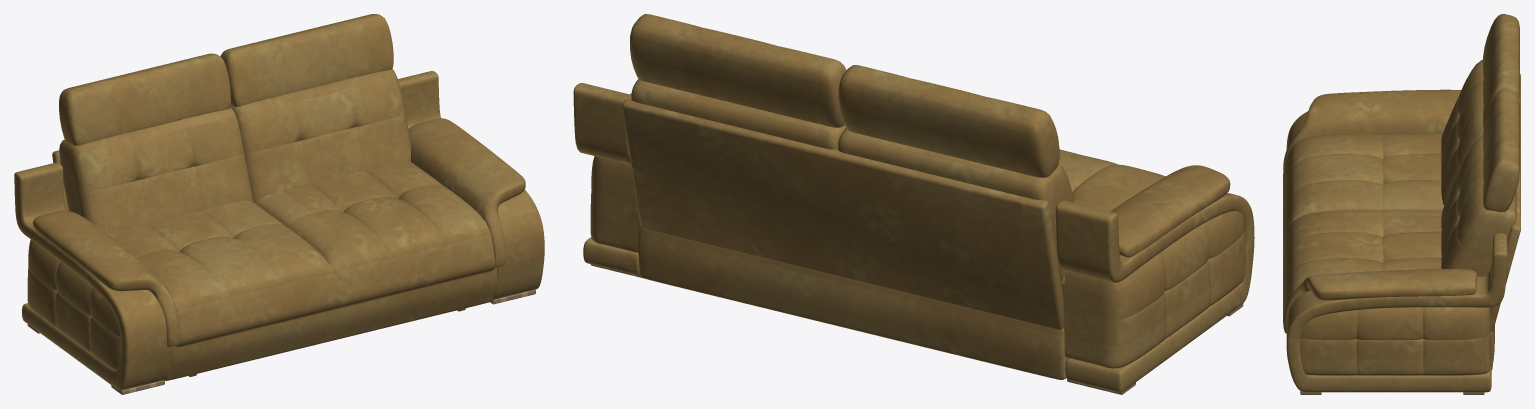
Rendered from sofa.glb.
3 renders of one model, left to right at view 1: azimuth 30°, elevation 25°; view 2: azimuth 150°, elevation 25°; view 3: azimuth 270°, elevation 25°, orthographic. The views are drawn at different scales.
Visible parts, largest first — view 1: сидушка_Cloner, сидушка_Cloner_1, изгиб_бок, сидушка_Cloner_1_2, Cube_4, сидушка_низ, Cube, Cube_2; view 2: Cube_3, изгиб_бок, сидушка_низ, Cube, Cube_2, сидушка_Cloner_1, сидушка_Cloner_1_2, Cube_4, сидушка_Cloner; view 3: сидушка_Cloner, изгиб_бок, Cube_4, сидушка_Cloner_1, сидушка_Cloner_1_2, Cube_2, Cube, Cube_3.
Boxes of the visible parts, x1=… form: сидушка_Cloner: x1=107, y1=161, x2=495, y2=347; сидушка_Cloner_1: x1=62, y1=69, x2=410, y2=233; изгиб_бок: x1=14, y1=71, x2=544, y2=390; сидушка_Cloner_1_2: x1=59, y1=69, x2=410, y2=233; Cube_4: x1=33, y1=118, x2=525, y2=347; сидушка_низ: x1=164, y1=267, x2=497, y2=380; Cube: x1=59, y1=53, x2=230, y2=145; Cube_2: x1=220, y1=14, x2=393, y2=106; Cube_3: x1=622, y1=98, x2=1063, y2=329; изгиб_бок: x1=573, y1=83, x2=1254, y2=393; сидушка_низ: x1=638, y1=226, x2=1068, y2=379; Cube: x1=838, y1=65, x2=1059, y2=177; Cube_2: x1=630, y1=14, x2=846, y2=127; сидушка_Cloner_1: x1=634, y1=79, x2=1074, y2=280; сидушка_Cloner_1_2: x1=631, y1=79, x2=1074, y2=279; Cube_4: x1=630, y1=93, x2=1230, y2=257; сидушка_Cloner: x1=1058, y1=149, x2=1165, y2=283; сидушка_Cloner: x1=1283, y1=134, x2=1443, y2=321; изгиб_бок: x1=1286, y1=111, x2=1507, y2=392; Cube_4: x1=1283, y1=89, x2=1477, y2=333; сидушка_Cloner_1: x1=1441, y1=61, x2=1516, y2=276; сидушка_Cloner_1_2: x1=1441, y1=59, x2=1515, y2=275; Cube_2: x1=1483, y1=90, x2=1519, y2=211; Cube: x1=1483, y1=14, x2=1519, y2=128; Cube_3: x1=1490, y1=74, x2=1520, y2=331.
Size of the model in its own units: 1.87 by 0.9102 by 0.9329.
3 materials, 1 textured.
